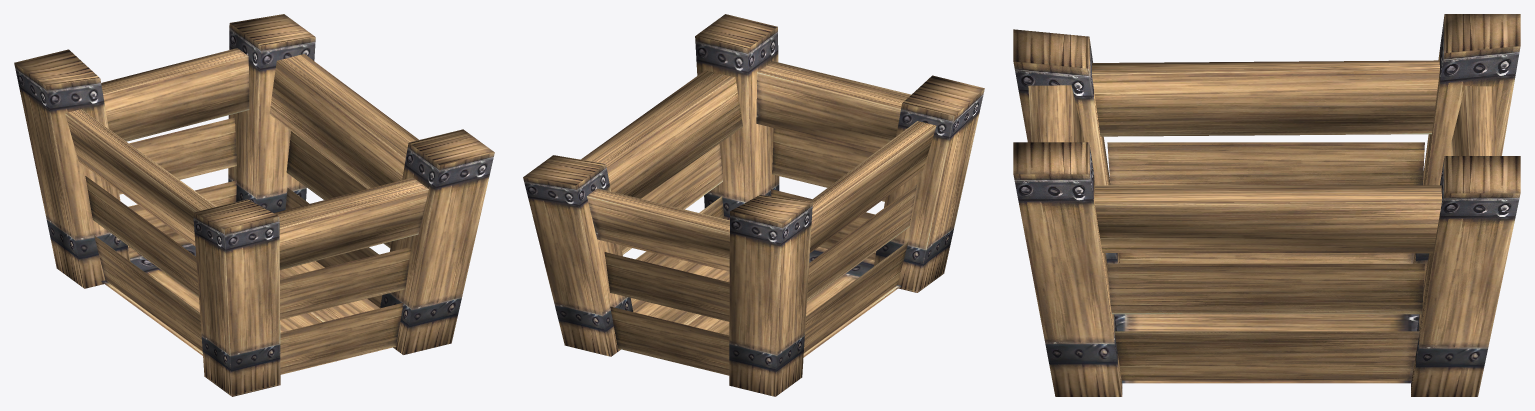
File: crate01.obj
The picture shows the model from 3 angles, left to right: view 1: azimuth 30°, elevation 25°; view 2: azimuth 150°, elevation 25°; view 3: azimuth 270°, elevation 25°; orthographic projection. The views are drawn at different scales.
Parts seen in each view (by area): view 1: crate01; view 2: crate01; view 3: crate01.
Part boxes in pixels (left/top/right/bottom): crate01: left=14, top=14, right=494, bottom=396; crate01: left=523, top=14, right=984, bottom=396; crate01: left=1013, top=14, right=1520, bottom=396.
Size of the model in its own units: 1.1 by 0.7719 by 1.48.
Materials: 1 (1 with a texture image).
